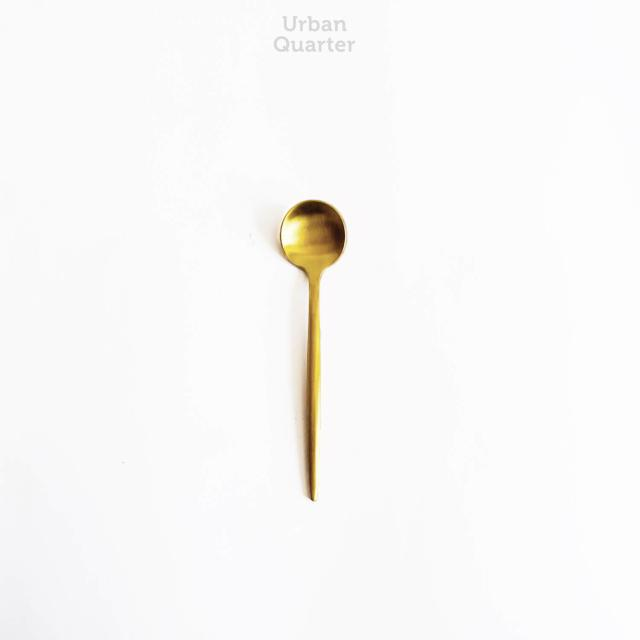spoon: (249, 181, 368, 510)
